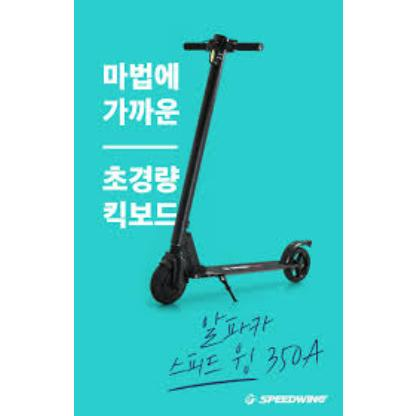bike: (149, 35, 313, 307)
